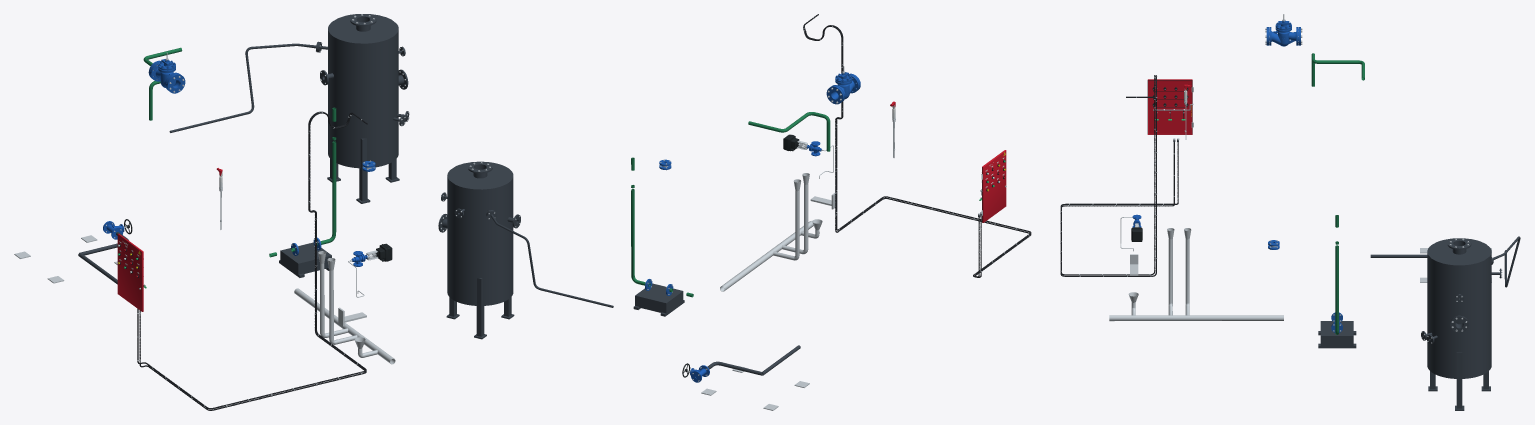
3 views of the same model, side by side, from view 1: azimuth 30°, elevation 25°; view 2: azimuth 150°, elevation 25°; view 3: azimuth 270°, elevation 25° (orthographic). The views are drawn at different scales.
Parts seen in each view (by area): view 1: separator_bdv60_5 / dark, local_open_drains / steel, cabinet_door / cabinet_door_5.npz, wiring_pressure_switch_2 / black, wiring_pressure_switch_1 / black, pump_branch_2 / dark, tds_without_fv / dark, pump_branch_2 / green, gpz CAD solid 0, bcv925 / bcv925_0.npz; view 2: separator_bdv60_5 / dark, local_open_drains / steel, cabinet_door / cabinet_door_5.npz, wiring_pressure_switch_1 / black, pump_branch_2 / dark, wiring_pressure_switch_2 / black, tds_without_fv / dark, pump_branch_2 / green; view 3: separator_bdv60_5 / dark, cabinet_door / cabinet_door_5.npz, local_open_drains / steel, wiring_pressure_switch_2 / black, pump_branch_2 / dark, wiring_pressure_switch_1 / black, gpz CAD solid 0, pump_branch_2 / green.
Part boxes in pixels (bbox=[...]): separator_bdv60_5 / dark: bbox=[317, 14, 409, 203]; local_open_drains / steel: bbox=[294, 251, 395, 364]; cabinet_door / cabinet_door_5.npz: bbox=[117, 233, 143, 311]; wiring_pressure_switch_2 / black: bbox=[137, 112, 366, 409]; wiring_pressure_switch_1 / black: bbox=[139, 111, 367, 410]; pump_branch_2 / dark: bbox=[279, 242, 331, 277]; tds_without_fv / dark: bbox=[169, 41, 318, 132]; pump_branch_2 / green: bbox=[269, 107, 336, 257]; gpz CAD solid 0: bbox=[150, 52, 179, 89]; bcv925 / bcv925_0.npz: bbox=[351, 243, 392, 266]; separator_bdv60_5 / dark: bbox=[438, 161, 520, 339]; local_open_drains / steel: bbox=[720, 173, 822, 291]; cabinet_door / cabinet_door_5.npz: bbox=[981, 150, 1006, 222]; wiring_pressure_switch_1 / black: bbox=[803, 14, 1031, 277]; pump_branch_2 / dark: bbox=[633, 283, 684, 316]; wiring_pressure_switch_2 / black: bbox=[804, 22, 1031, 277]; tds_without_fv / dark: bbox=[486, 210, 613, 307]; pump_branch_2 / green: bbox=[631, 157, 693, 297]; separator_bdv60_5 / dark: bbox=[1421, 238, 1501, 410]; cabinet_door / cabinet_door_5.npz: bbox=[1147, 79, 1193, 134]; local_open_drains / steel: bbox=[1109, 228, 1283, 321]; wiring_pressure_switch_2 / black: bbox=[1060, 75, 1178, 275]; pump_branch_2 / dark: bbox=[1318, 321, 1356, 348]; wiring_pressure_switch_1 / black: bbox=[1060, 75, 1174, 276]; gpz CAD solid 0: bbox=[1269, 14, 1298, 46]; pump_branch_2 / green: bbox=[1335, 215, 1338, 334].
Size of the model in its own units: 5.43 by 3.29 by 5.45.
